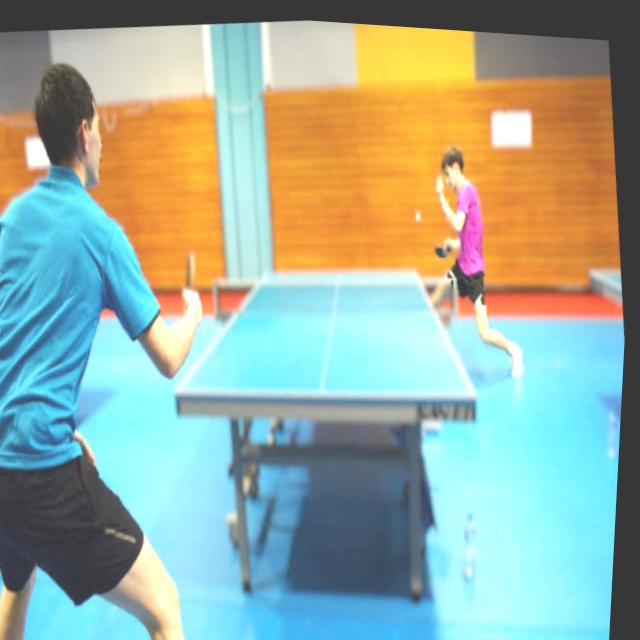TT Net: (211, 272, 460, 324)
TT Racket: (181, 249, 198, 299), (431, 242, 450, 263)
TT Table: (178, 265, 474, 396)
